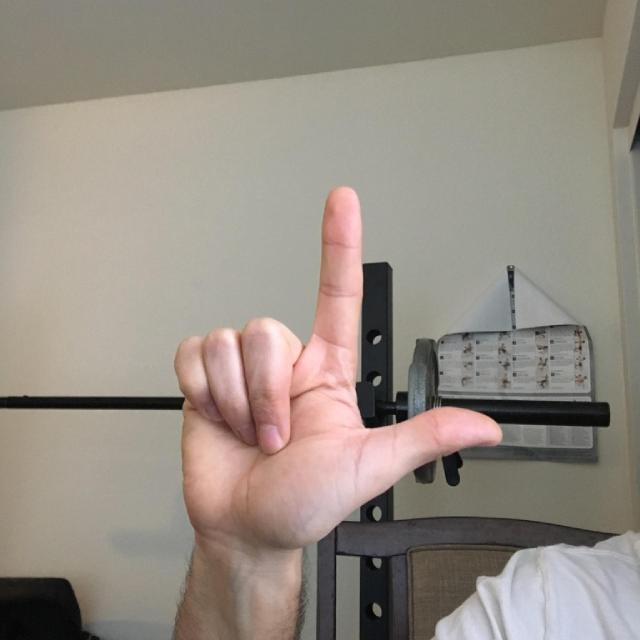L: (157, 134, 515, 608)
